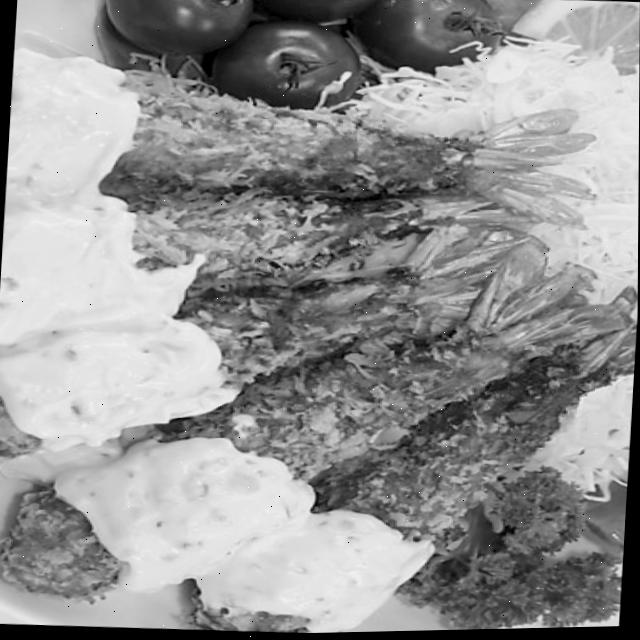炸货点心: (0, 41, 640, 640)
熟制海鲜: (0, 41, 640, 640)
